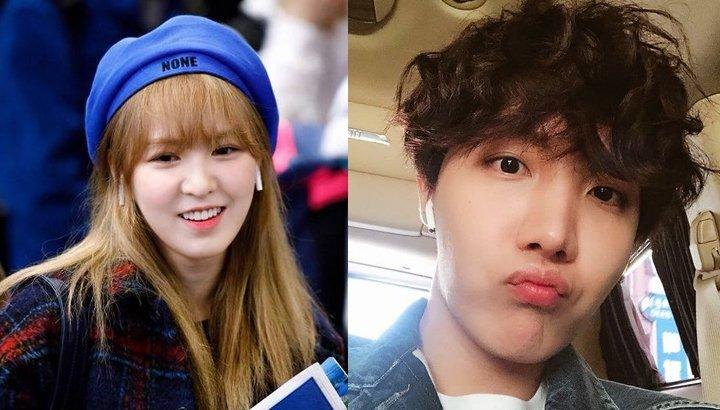earphone: (416, 188, 439, 231), (111, 166, 134, 208), (244, 161, 268, 196)
